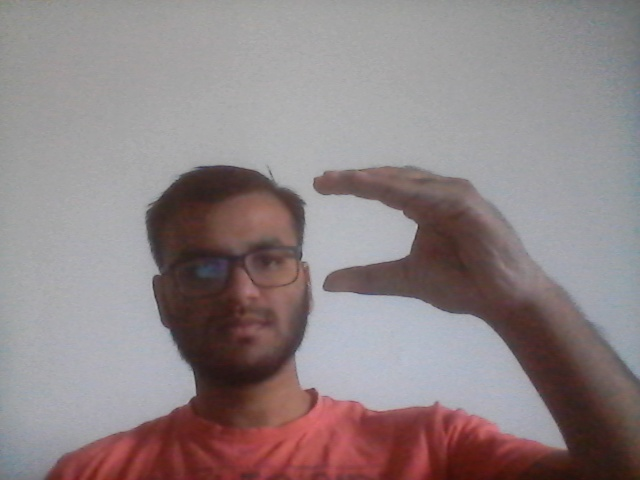No: (309, 162, 554, 311)
